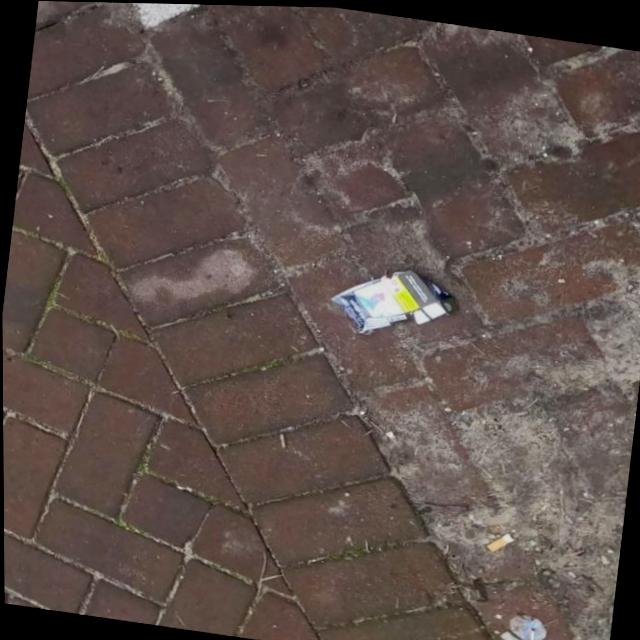Paper: (322, 254, 459, 347)
